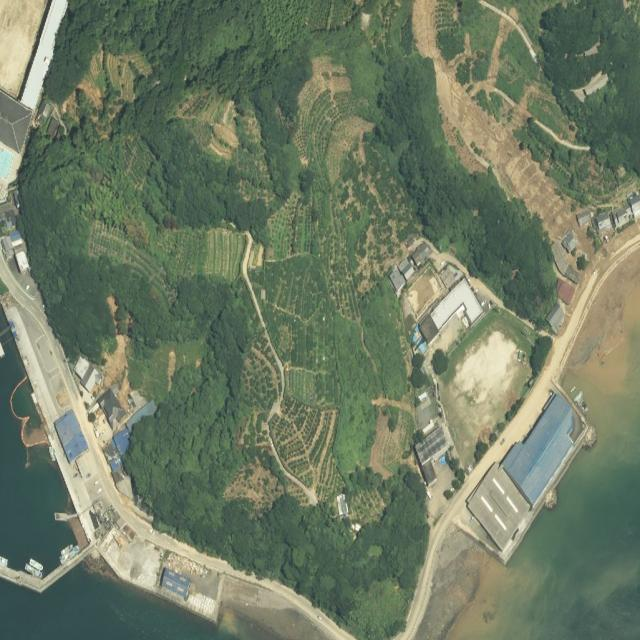landslide: (413, 0, 571, 238)
